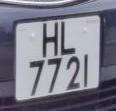1: (81, 50, 92, 92)
2: (64, 55, 83, 92)
7: (44, 56, 64, 95), (26, 59, 45, 98)
H: (40, 21, 61, 59)
L: (58, 18, 78, 58)
